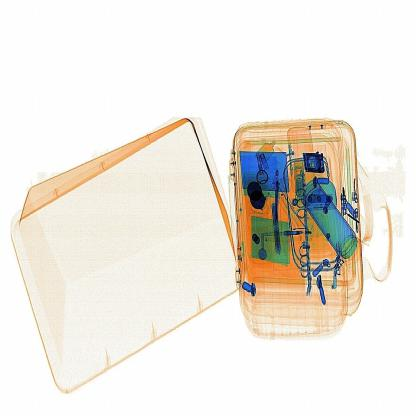knife: (271, 171, 288, 233)
